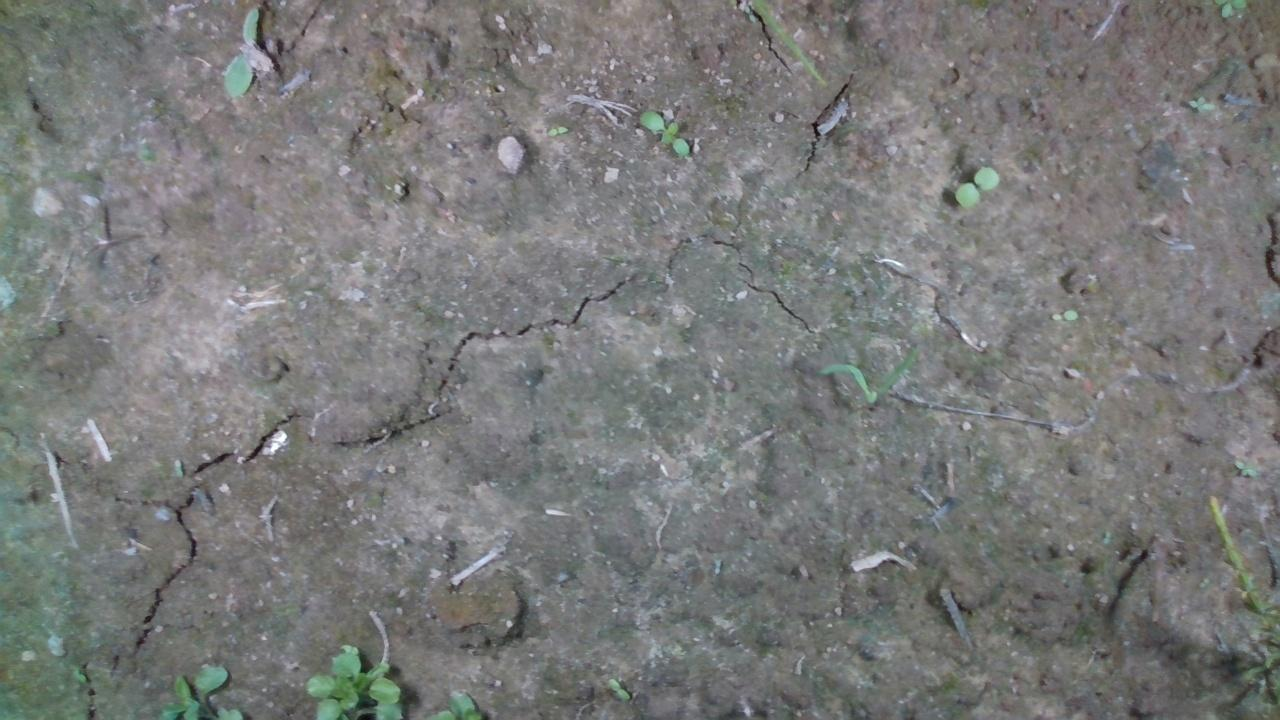weed: (948, 161, 1007, 209), (637, 108, 691, 155)
